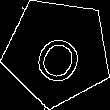O_NE: (27, 20, 88, 84)
